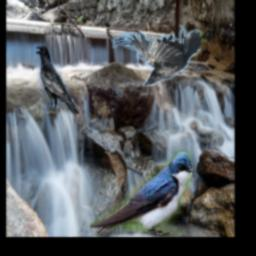Crow: (111, 26, 201, 87), (36, 46, 78, 114)
Swallow: (91, 151, 194, 237)
